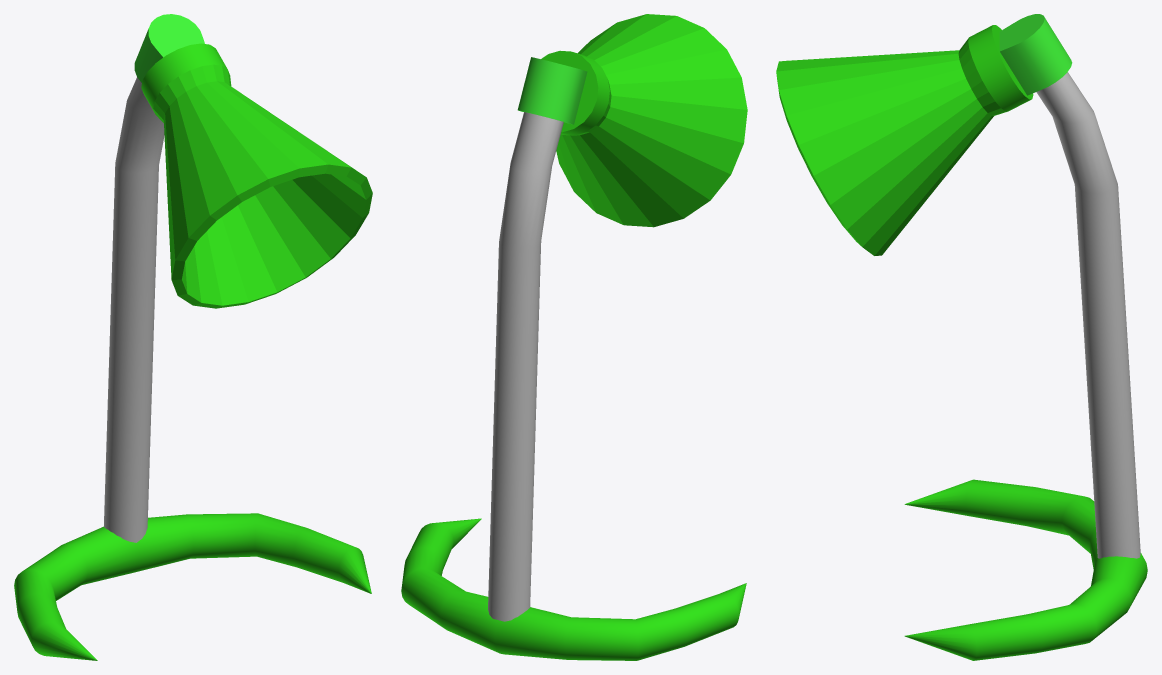
Rendered from lambafbx.fbx.
3 renders of one model, left to right at view 1: azimuth 30°, elevation 25°; view 2: azimuth 150°, elevation 25°; view 3: azimuth 270°, elevation 25°, orthographic. The views are drawn at different scales.
Visible parts, largest first — view 1: pCylinder1, polySurface3, pTorus1, polySurface4, pasted__pCylinder2; view 2: polySurface3, pCylinder1, pTorus1, pasted__pCylinder2; view 3: polySurface3, pCylinder1, pTorus1, pasted__pCylinder2.
Boxes of the visible parts, x1,y1,x2,y2 form: pCylinder1: (104, 77, 164, 542); polySurface3: (141, 43, 359, 279); pTorus1: (14, 513, 371, 660); polySurface4: (182, 173, 365, 305); pasted__pCylinder2: (134, 14, 204, 82); polySurface3: (541, 14, 747, 227); pCylinder1: (488, 112, 563, 621); pTorus1: (401, 518, 746, 660); pasted__pCylinder2: (517, 57, 587, 124); polySurface3: (776, 25, 1033, 255); pCylinder1: (1036, 72, 1140, 558); pTorus1: (904, 479, 1147, 660); pasted__pCylinder2: (999, 14, 1072, 95).
Bounding box in the file's own units: 2.75 × 4.63 × 2.71.
